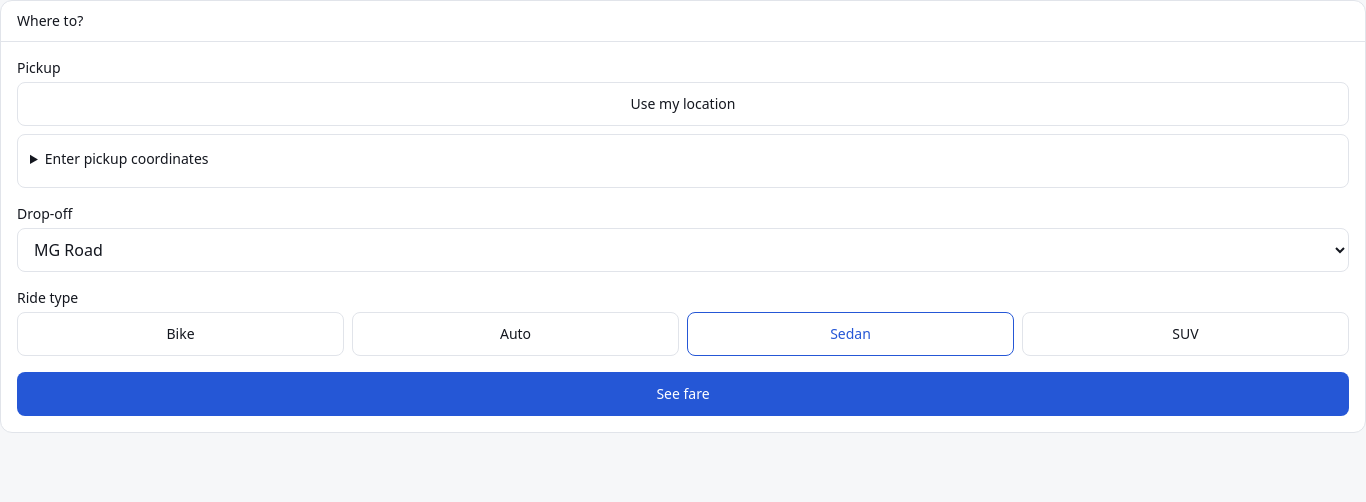
Test case: Book › will not ask for a fare without a pickup point
Step 1. Click the button "See fare" → [683, 394], box top-left (17, 372), bottom-right (1349, 416)
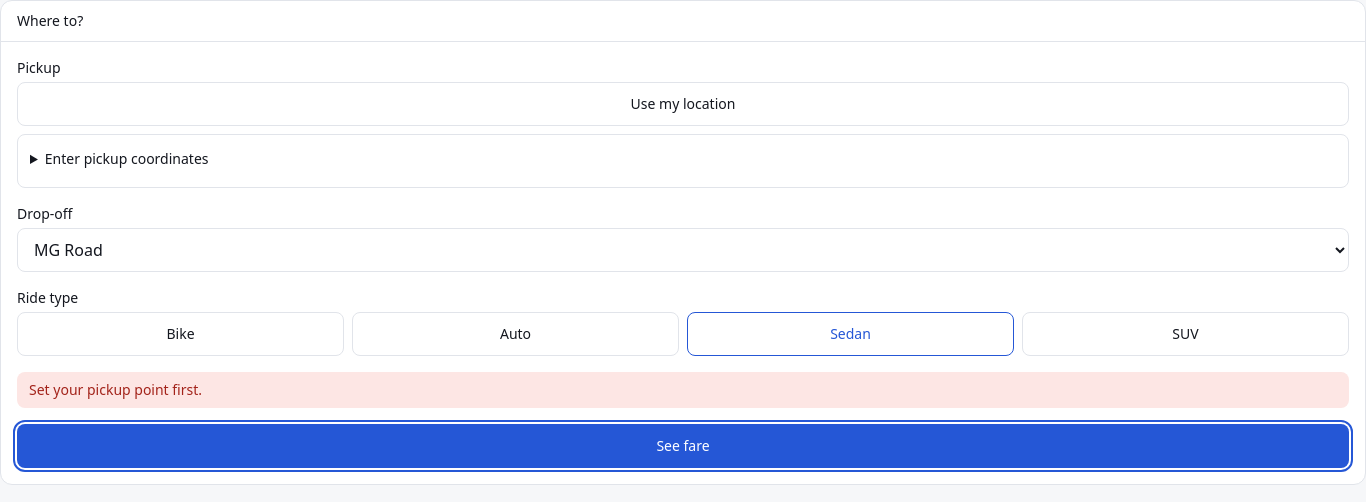
Expected: the message shows "Set your pickup point first", top-left (29, 380), bottom-right (202, 399)
